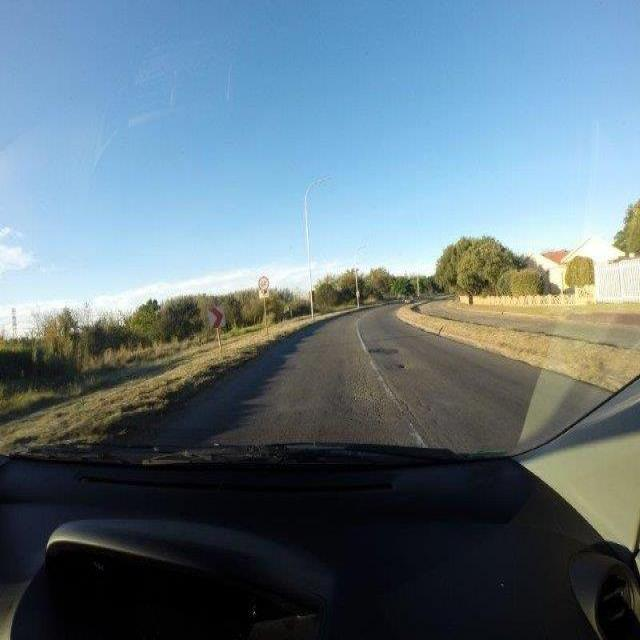jalan retak: (349, 390, 444, 430)
lubang: (363, 344, 398, 355), (394, 361, 420, 375)
